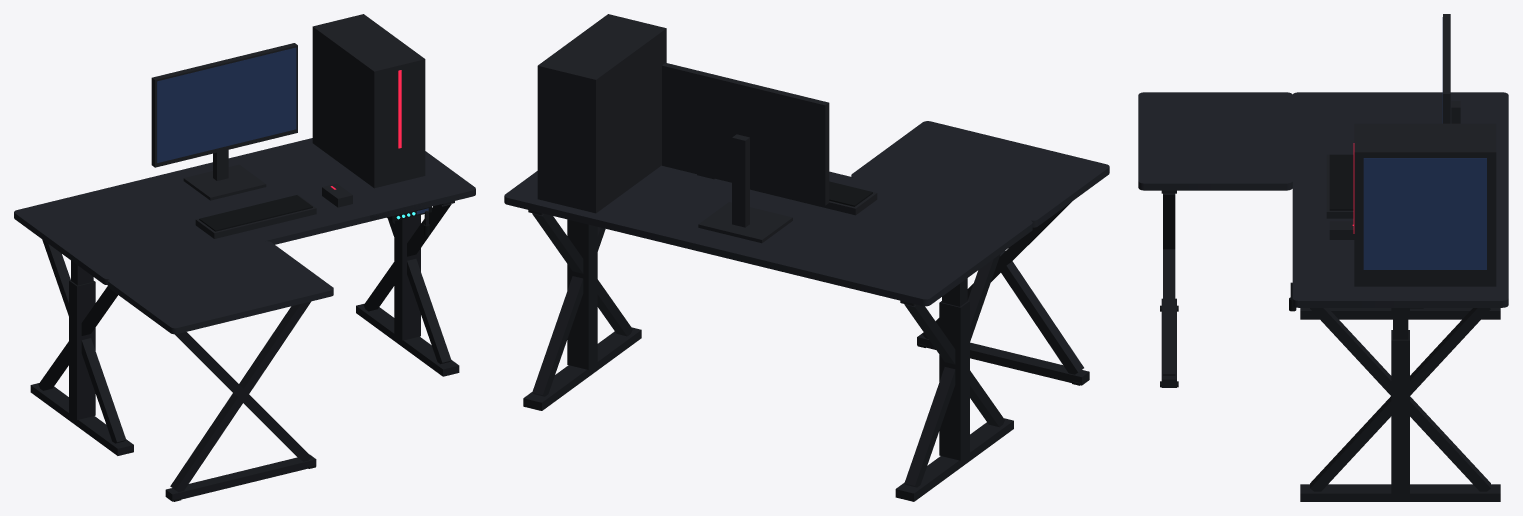
Rendered from desk.glb.
The picture shows the model from 3 angles, left to right: view 1: azimuth 30°, elevation 25°; view 2: azimuth 150°, elevation 25°; view 3: azimuth 270°, elevation 25°; orthographic projection. The views are drawn at different scales.
Parts seen in each view (by area): view 1: desk_top, prop_pc, prop_monitor, l_extension, arch_cutout, l_extension_leg, legs_L, legs_R, frame_column_outer_L, prop_keyboard, frame_column_outer_R, frame_foot_R (+2 smaller); view 2: arch_cutout, prop_pc, prop_monitor, desk_top, l_extension, legs_L, l_extension_leg, legs_R, frame_column_outer_L, frame_column_outer_R, frame_foot_R, frame_foot_L (+1 smaller); view 3: prop_pc, arch_cutout, l_extension, desk_top, legs_R, frame_foot_R, frame_column_outer_R, l_extension_leg, prop_keyboard, frame_foot_L, prop_monitor, frame_column_mid_R (+1 smaller).
Boxes of the visible parts, box(x1,y1,x2,y2) form: desk_top: box(14, 138, 475, 278); prop_pc: box(312, 14, 425, 188); prop_monitor: box(151, 43, 297, 200); l_extension: box(108, 241, 333, 334); arch_cutout: box(14, 138, 475, 285); l_extension_leg: box(165, 301, 316, 501); legs_L: box(35, 239, 128, 446); legs_R: box(363, 201, 454, 367); frame_column_outer_L: box(69, 280, 95, 419); prop_keyboard: box(195, 194, 316, 238); frame_column_outer_R: box(394, 215, 420, 340); frame_foot_R: box(356, 303, 459, 376); arch_cutout: box(504, 165, 1032, 306); prop_pc: box(537, 14, 666, 213); prop_monitor: box(662, 63, 829, 243); desk_top: box(505, 166, 1029, 299); l_extension: box(851, 121, 1109, 227); legs_L: box(900, 254, 1008, 491); l_extension_leg: box(917, 202, 1089, 385); legs_R: box(528, 210, 636, 400); frame_column_outer_L: box(939, 300, 969, 460); frame_column_outer_R: box(567, 219, 597, 369); frame_foot_R: box(523, 327, 641, 410); frame_foot_L: box(895, 418, 1013, 501); prop_pc: box(1353, 123, 1496, 286); arch_cutout: box(1292, 92, 1508, 307); l_extension: box(1138, 92, 1292, 190); desk_top: box(1292, 92, 1508, 300); legs_R: box(1305, 308, 1496, 492); frame_foot_R: box(1300, 484, 1500, 501); frame_column_outer_R: box(1391, 330, 1409, 494); l_extension_leg: box(1160, 190, 1178, 387); prop_keyboard: box(1326, 154, 1353, 218); frame_foot_L: box(1300, 308, 1500, 319); prop_monitor: box(1442, 14, 1460, 123); frame_column_mid_R: box(1393, 308, 1408, 339).
Bounding box in the file's own units: 1.6 × 1.26 × 1.2.
